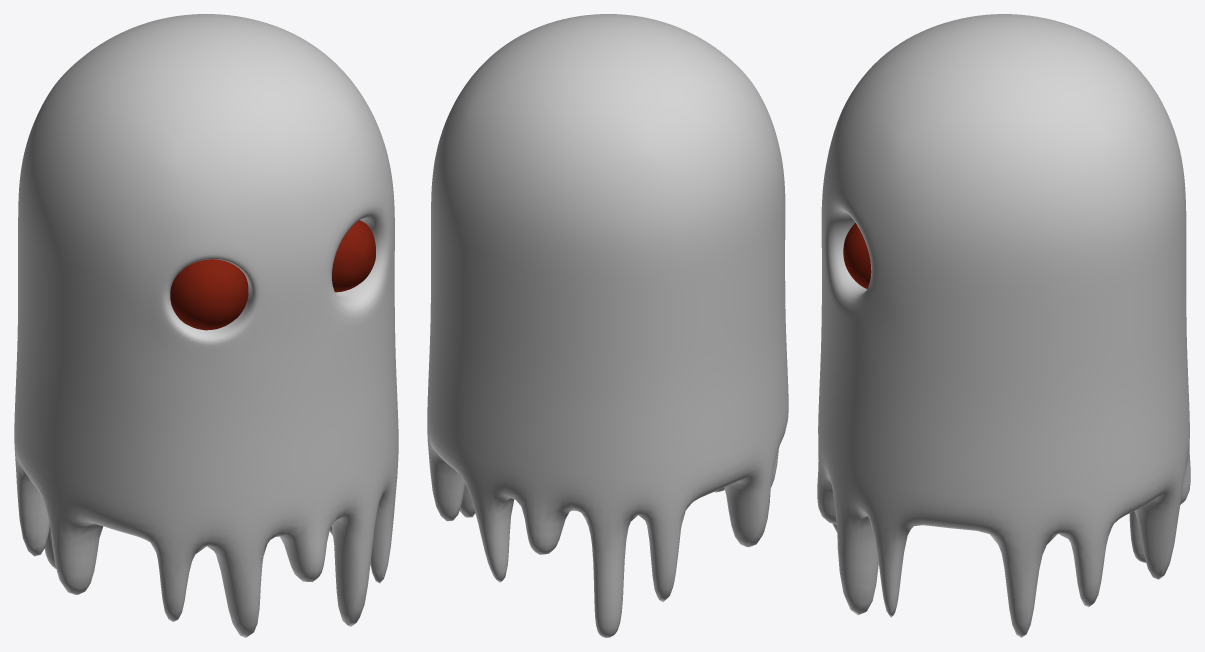
Rendered from enemigo.fbx.
3 views of the same model, side by side, from view 1: azimuth 30°, elevation 25°; view 2: azimuth 150°, elevation 25°; view 3: azimuth 270°, elevation 25° (orthographic). The views are drawn at different scales.
Visible parts, largest first — view 1: Cube; view 2: Cube; view 3: Cube.
Part boxes in pixels (x1,y1,x2,y2): Cube: (14,14,398,637); Cube: (427,14,788,637); Cube: (817,14,1190,637).
Size of the model in its own units: 170 by 285 by 171.
2 materials, 2 textured.
